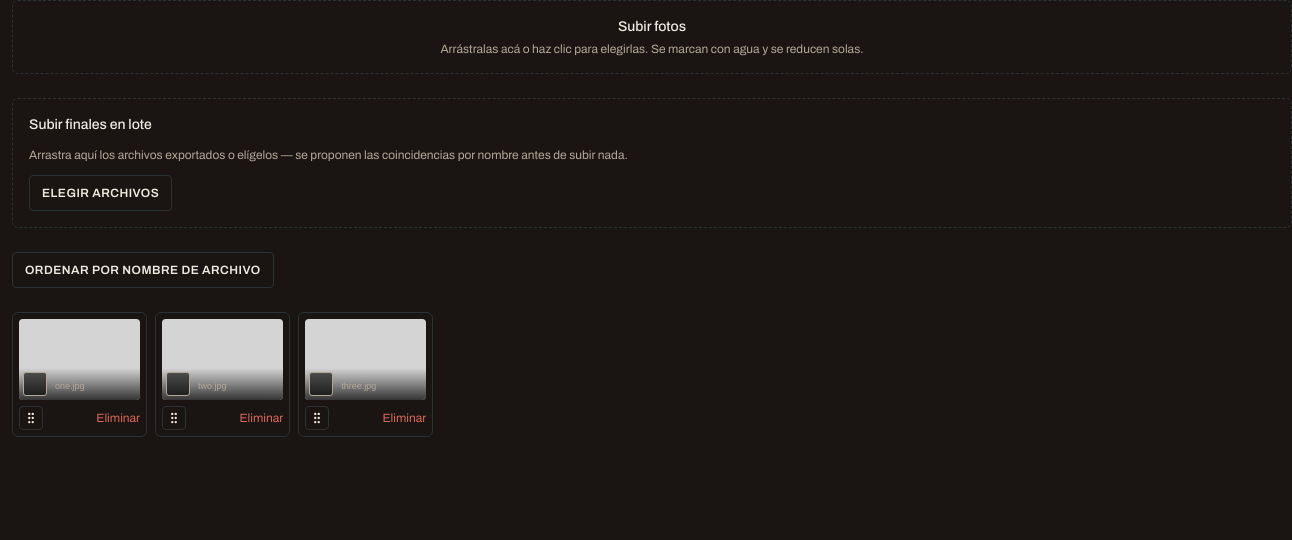
Test case: GalleryWorkspace › task #195 — full-screen viewer and bulk-delete marking › bulk-deletes every marked asset, posting their ids in one request and clearing them from the grid and the marked count
Click the button named "Marcar one.jpg para borrar" at (35, 384), box [23, 372, 47, 396]
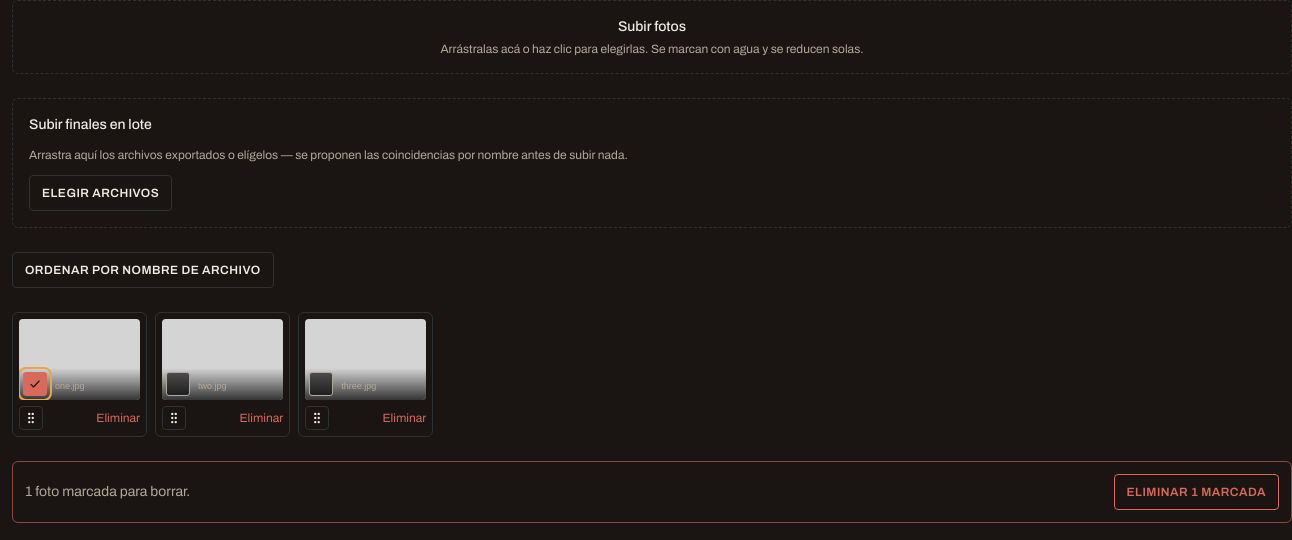
Click the button named "Marcar two.jpg para borrar" at (178, 384), box [166, 372, 190, 396]
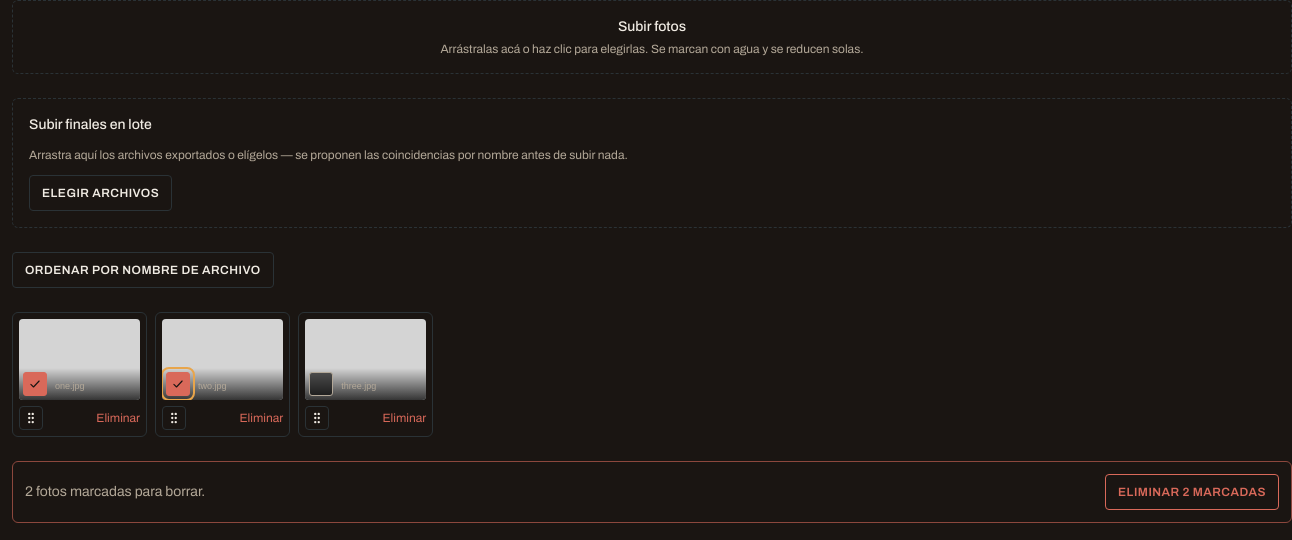
Click the button "Eliminar 2 marcadas" at (1192, 492), box [1105, 474, 1279, 510]
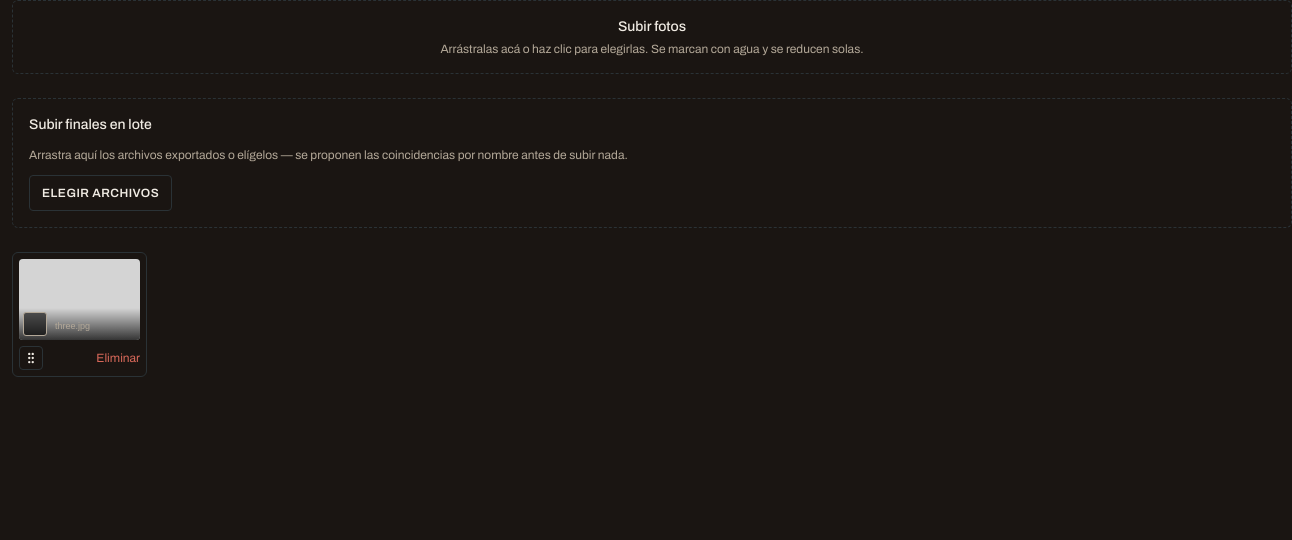
Result: the text "one.jpg" is gone
Result: the text "two.jpg" is gone
Result: the text "marcada" is gone
